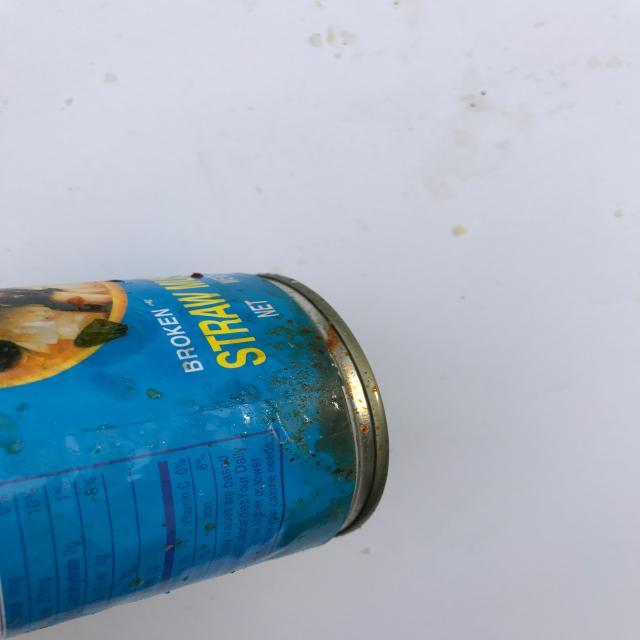metal: (1, 272, 396, 640)
